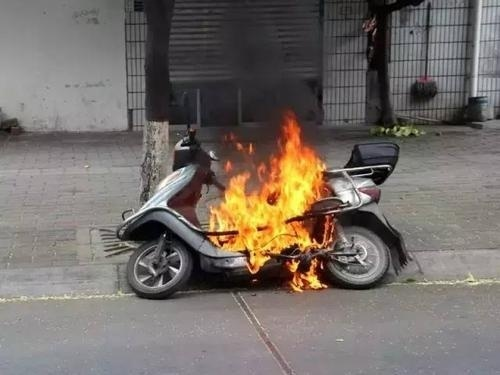fire: (205, 113, 339, 288)
